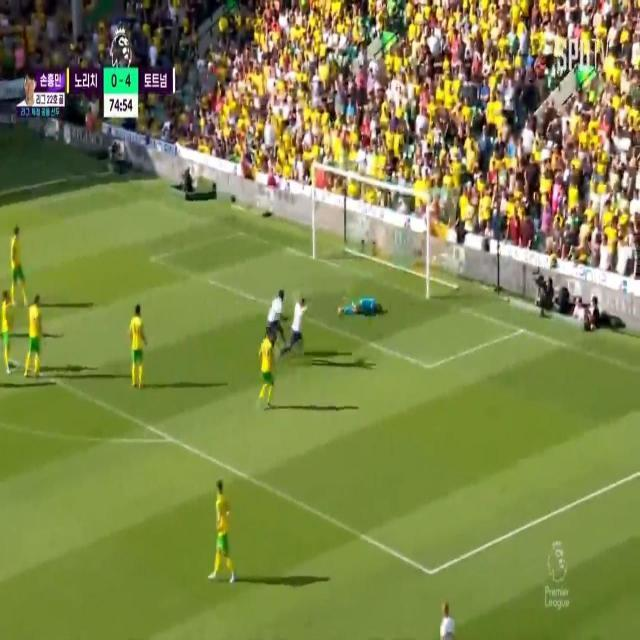goalkeeper: (329, 295, 406, 325)
player: (24, 290, 46, 377), (212, 482, 231, 580), (257, 330, 279, 411), (265, 288, 287, 350), (287, 293, 309, 354), (129, 298, 143, 391), (9, 229, 25, 309), (435, 593, 458, 640), (1, 288, 12, 382)
